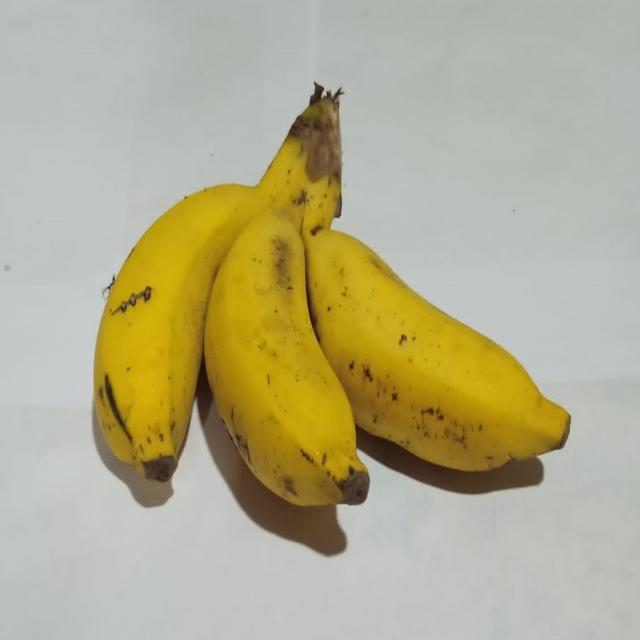banana: (94, 86, 339, 481), (304, 229, 570, 470), (205, 177, 369, 505)
